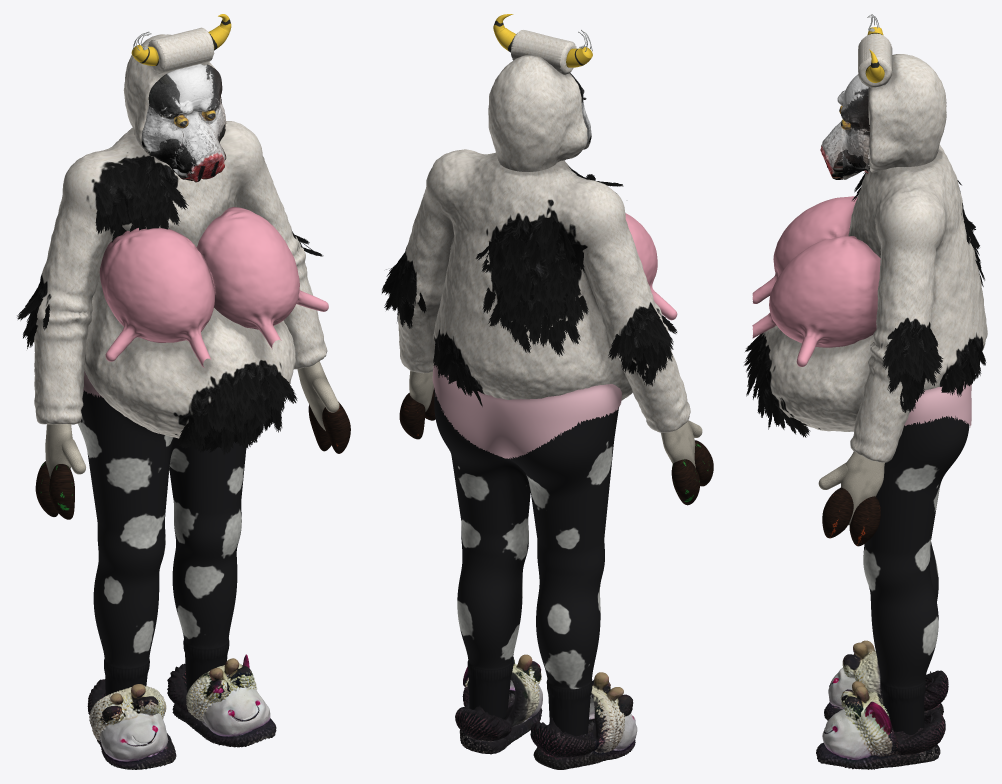
File: Misanthropic_Cow_v10.glb
3 renders of one model, left to right at view 1: azimuth 30°, elevation 25°; view 2: azimuth 150°, elevation 25°; view 3: azimuth 270°, elevation 25°, orthographic.
Visible parts, largest first — view 1: Suit_torso_white_faux_fur, Leggings_R_black_cotton, Leggings_L_black_cotton, Udder_R_pink_cloth_cup_and_teats, Suit_sleeve_R_white_faux_fur, Suit_black_shag_tufts, Udder_L_pink_cloth_cup_and_teats, Mask_scanned_face, Slipper_L_knitted_cow_head, Slipper_R_knitted_cow_head, Suit_sleeve_L_white_faux_fur, Mask_horn_tube_white_faux_fur (+7 smaller); view 2: Suit_torso_white_faux_fur, Leggings_R_black_cotton, Leggings_L_black_cotton, Suit_black_shag_tufts, Hood_white_faux_fur, Suit_sleeve_R_white_faux_fur, Panties_pink_satin, Suit_sleeve_L_white_faux_fur, Slipper_R_knitted_cow_head, Leggings_seat_black_cotton, Slipper_L_knitted_cow_head, Mask_horn_tube_white_faux_fur (+6 smaller); view 3: Suit_torso_white_faux_fur, Leggings_L_black_cotton, Udder_L_pink_cloth_cup_and_teats, Suit_sleeve_L_white_faux_fur, Hood_white_faux_fur, Slipper_L_knitted_cow_head, Suit_black_shag_tufts, Udder_R_pink_cloth_cup_and_teats, Mask_scanned_face, Leggings_seat_black_cotton, Slipper_R_knitted_cow_head, Panties_pink_satin (+5 smaller).
Part boxes in pixels (left/top/right/bottom): Suit_torso_white_faux_fur: left=62, top=121, right=295, bottom=438; Leggings_R_black_cotton: left=83, top=414, right=177, bottom=712; Leggings_L_black_cotton: left=169, top=438, right=246, bottom=692; Udder_R_pink_cloth_cup_and_teats: left=99, top=228, right=215, bottom=367; Suit_sleeve_R_white_faux_fur: left=34, top=195, right=111, bottom=424; Suit_black_shag_tufts: left=17, top=163, right=323, bottom=454; Udder_L_pink_cloth_cup_and_teats: left=196, top=207, right=328, bottom=349; Mask_scanned_face: left=141, top=64, right=226, bottom=182; Slipper_L_knitted_cow_head: left=167, top=654, right=276, bottom=747; Slipper_R_knitted_cow_head: left=87, top=679, right=176, bottom=769; Suit_sleeve_L_white_faux_fur: left=237, top=156, right=327, bottom=369; Mask_horn_tube_white_faux_fur: left=148, top=27, right=214, bottom=73; Suit_torso_white_faux_fur: left=426, top=149, right=632, bottom=400; Leggings_R_black_cotton: left=512, top=427, right=615, bottom=736; Leggings_L_black_cotton: left=448, top=448, right=530, bottom=719; Suit_black_shag_tufts: left=382, top=170, right=677, bottom=406; Hood_white_faux_fur: left=488, top=55, right=587, bottom=171; Suit_sleeve_R_white_faux_fur: left=582, top=220, right=690, bottom=432; Panties_pink_satin: left=432, top=365, right=621, bottom=458; Suit_sleeve_L_white_faux_fur: left=395, top=186, right=454, bottom=373; Slipper_R_knitted_cow_head: left=530, top=672, right=637, bottom=769; Leggings_seat_black_cotton: left=434, top=389, right=618, bottom=478; Slipper_L_knitted_cow_head: left=455, top=654, right=542, bottom=754; Mask_horn_tube_white_faux_fur: left=511, top=30, right=576, bottom=75; Suit_torso_white_faux_fur: left=755, top=144, right=987, bottom=431; Leggings_L_black_cotton: left=863, top=448, right=951, bottom=734; Udder_L_pink_cloth_cup_and_teats: left=752, top=236, right=880, bottom=366; Suit_sleeve_L_white_faux_fur: left=850, top=240, right=936, bottom=462; Hood_white_faux_fur: left=868, top=54, right=946, bottom=172; Slipper_L_knitted_cow_head: left=816, top=681, right=945, bottom=769; Suit_black_shag_tufts: left=744, top=153, right=986, bottom=437; Udder_R_pink_cloth_cup_and_teats: left=752, top=196, right=857, bottom=303; Mask_scanned_face: left=820, top=74, right=869, bottom=179; Leggings_seat_black_cotton: left=896, top=416, right=969, bottom=475; Slipper_R_knitted_cow_head: left=824, top=640, right=948, bottom=720; Panties_pink_satin: left=904, top=381, right=971, bottom=427.
Size of the model in its own units: 0.7434 by 1.69 by 0.5337.
Materials: 21 (20 with a texture image).
